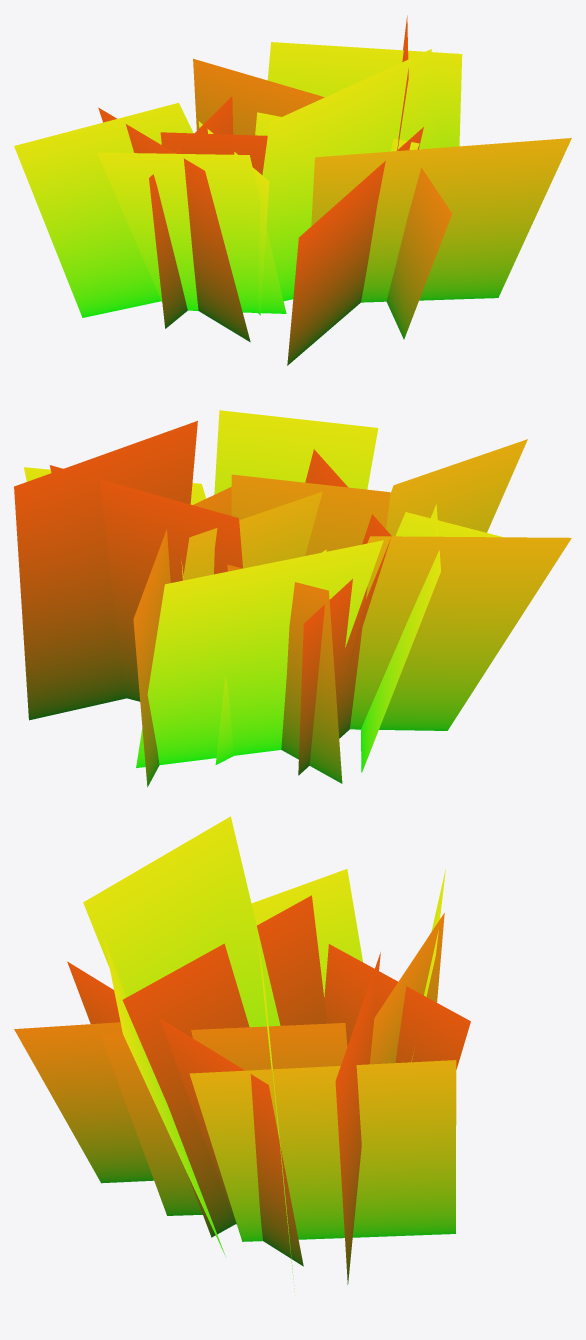
The model's file is SM_Grass_02.glb.
The picture shows the model from 3 angles, top to bottom: view 1: azimuth 30°, elevation 25°; view 2: azimuth 150°, elevation 25°; view 3: azimuth 270°, elevation 25°; orthographic projection. The views are drawn at different scales.
Parts seen in each view (by area): view 1: SM_Grass_02_LOD0; view 2: SM_Grass_02_LOD0; view 3: SM_Grass_02_LOD0.
Boxes of the visible parts, x1,y1,x2,y2 form: SM_Grass_02_LOD0: (14,15,571,365); SM_Grass_02_LOD0: (14,410,571,787); SM_Grass_02_LOD0: (14,816,470,1288).
Size of what is drawn, in the model's own units: 1.24 by 0.6842 by 0.9938.
Materials: 1 (1 with a texture image).
